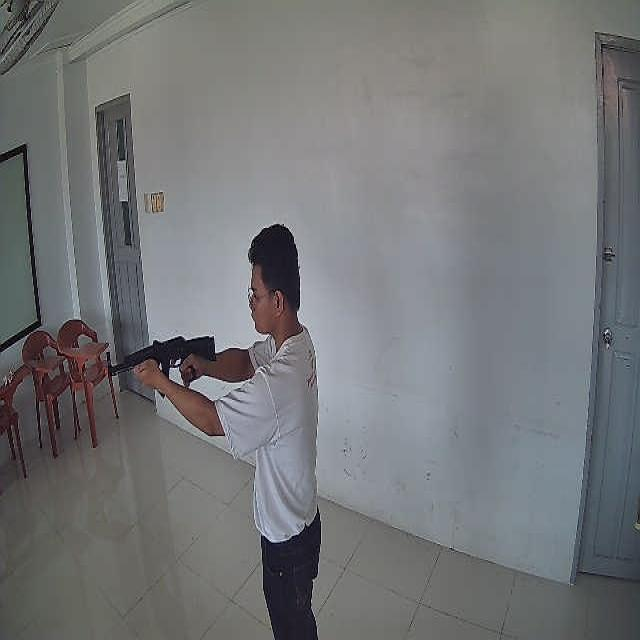rifle: (104, 336, 215, 399)
